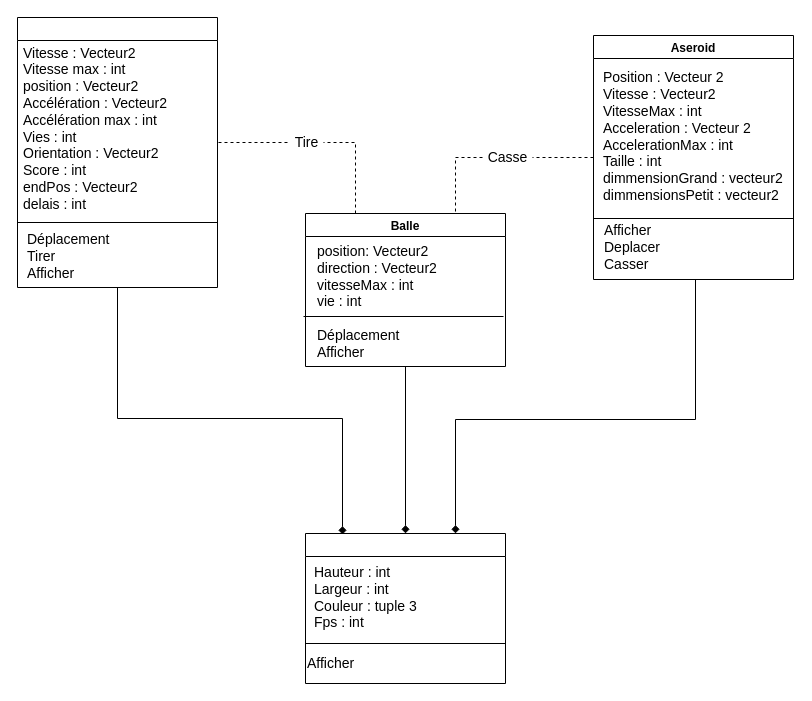
Some shapes in this 812 by 701 pixel diagram are drawn without their labels. The shapes that lost their labels are listed below. From the top down, each one's box as (x1, y1, x2, y2) in pixels, then its label:
(16, 16, 218, 288): Joueur
(304, 532, 506, 684): Fenetre
